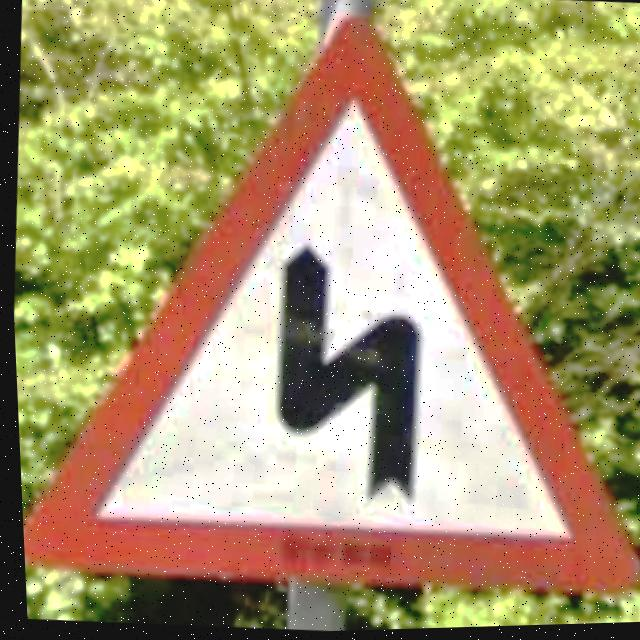doublebendleft: (18, 19, 634, 600)
